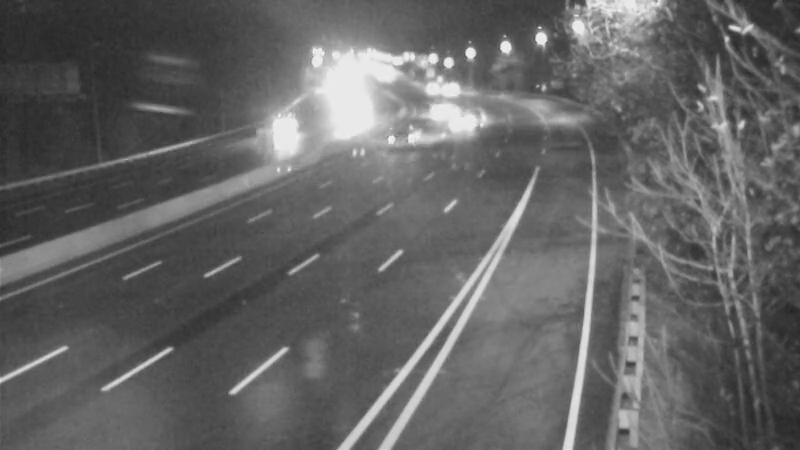vehicle: (406, 63, 456, 113), (427, 63, 477, 113), (411, 82, 461, 132), (442, 95, 492, 145), (380, 109, 430, 159), (264, 107, 314, 157)
